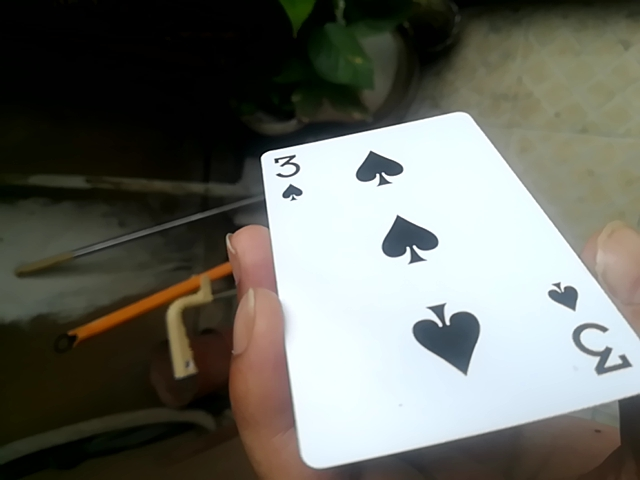ht 3: (241, 104, 639, 477)
